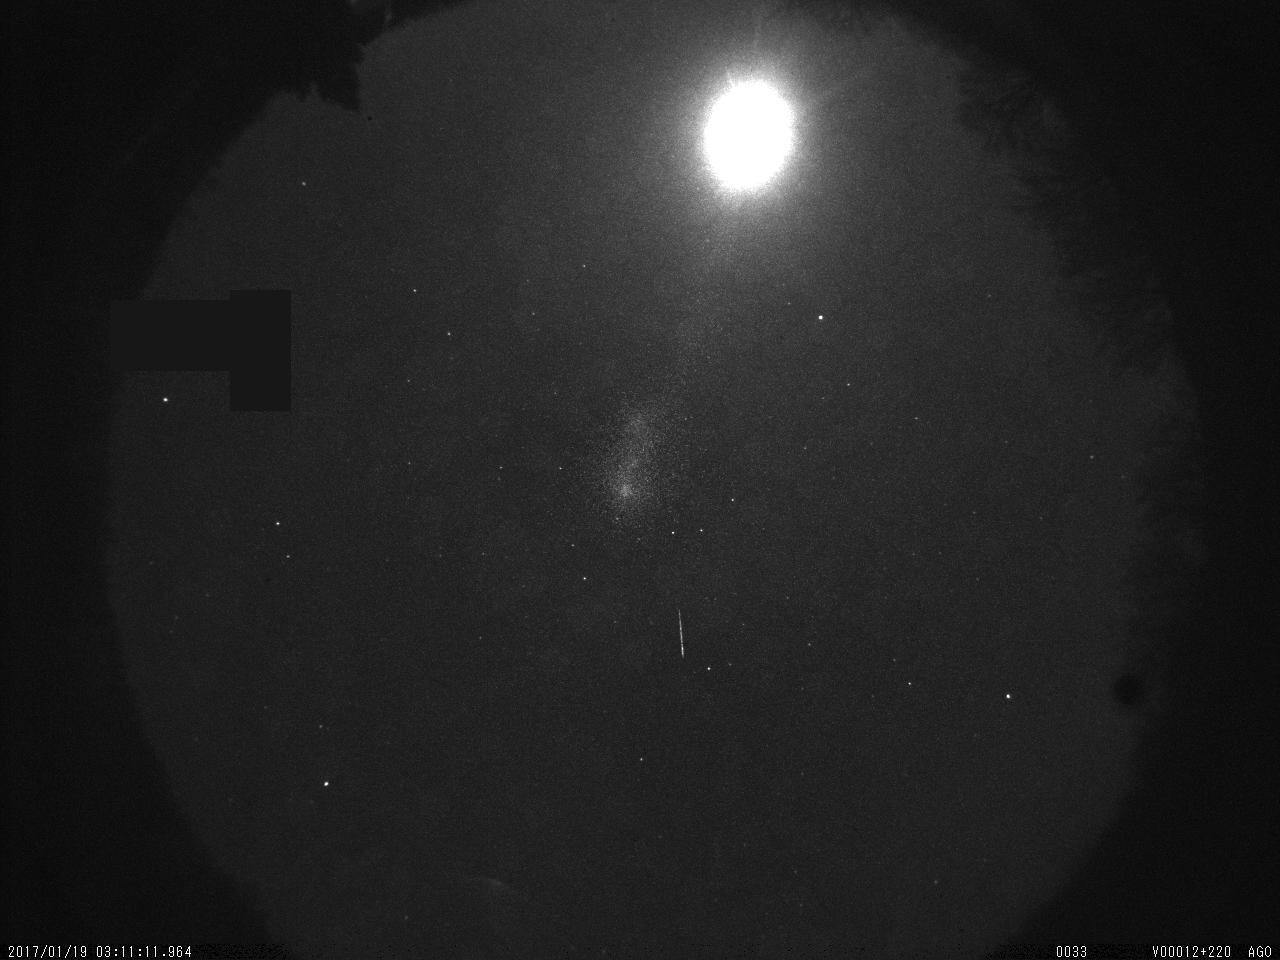meteor: (668, 600, 696, 678)
